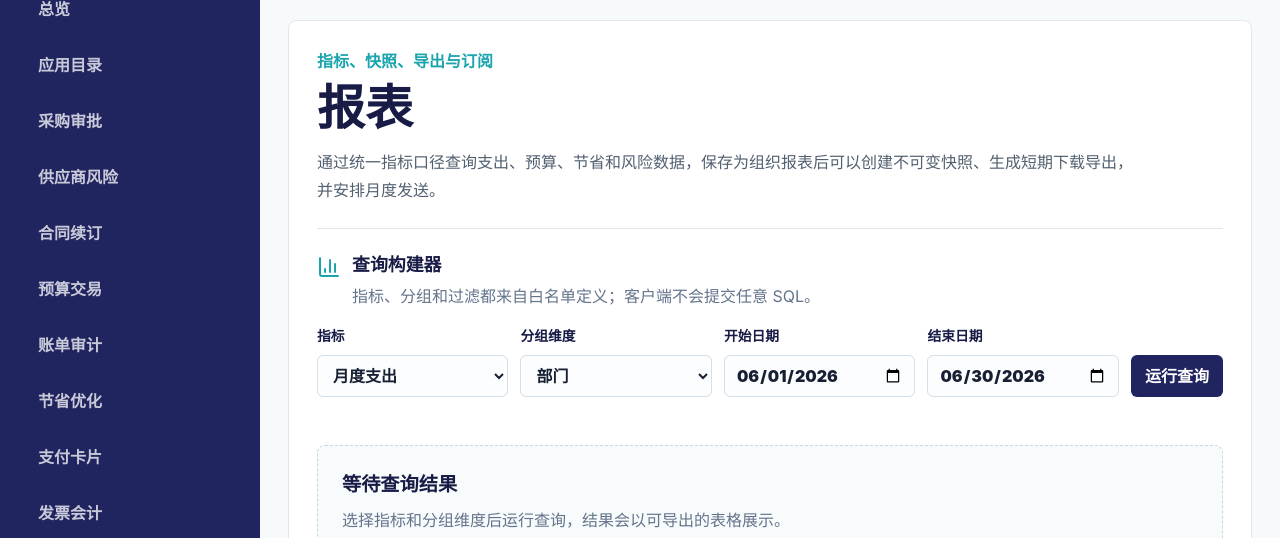
Test: builds, saves, snapshots, exports, and subscribes to a report
The image size is (1280, 538).
expect the heading "报表" is shown: met, box [317,78,413,137]
Select "月度支出" in the dropdown labelled "指标" at (413, 376), box [317,355,508,397]
Select "部门" in the dropdown labelled "分组维度" at (616, 376), box [520,355,712,397]
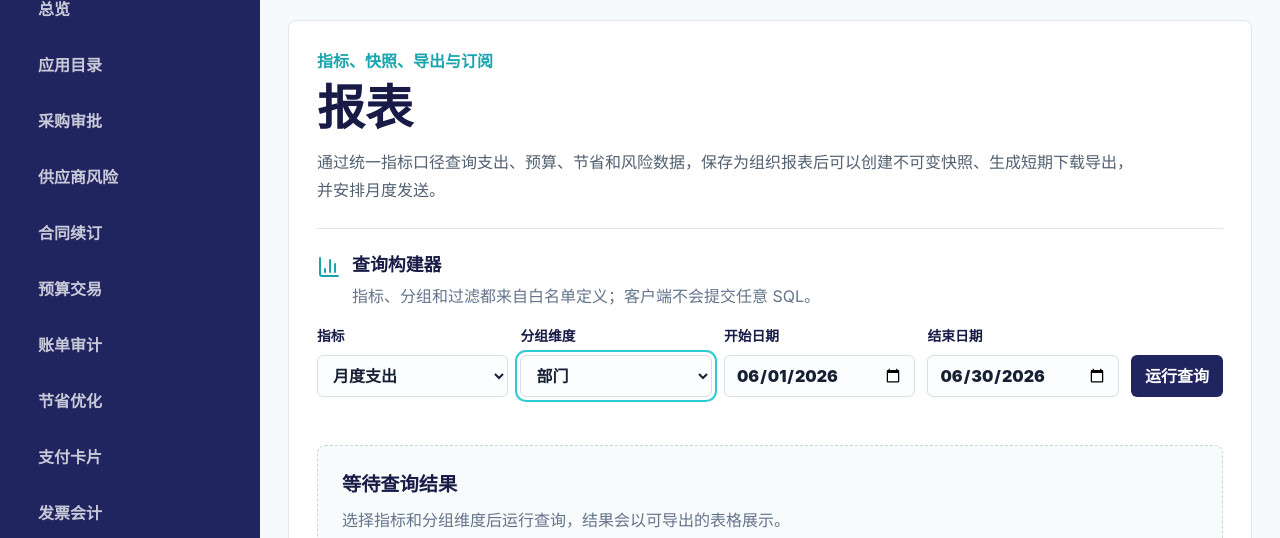
Click the button "运行查询" at (1177, 376), box [1131,355,1223,397]
(page scrolled)
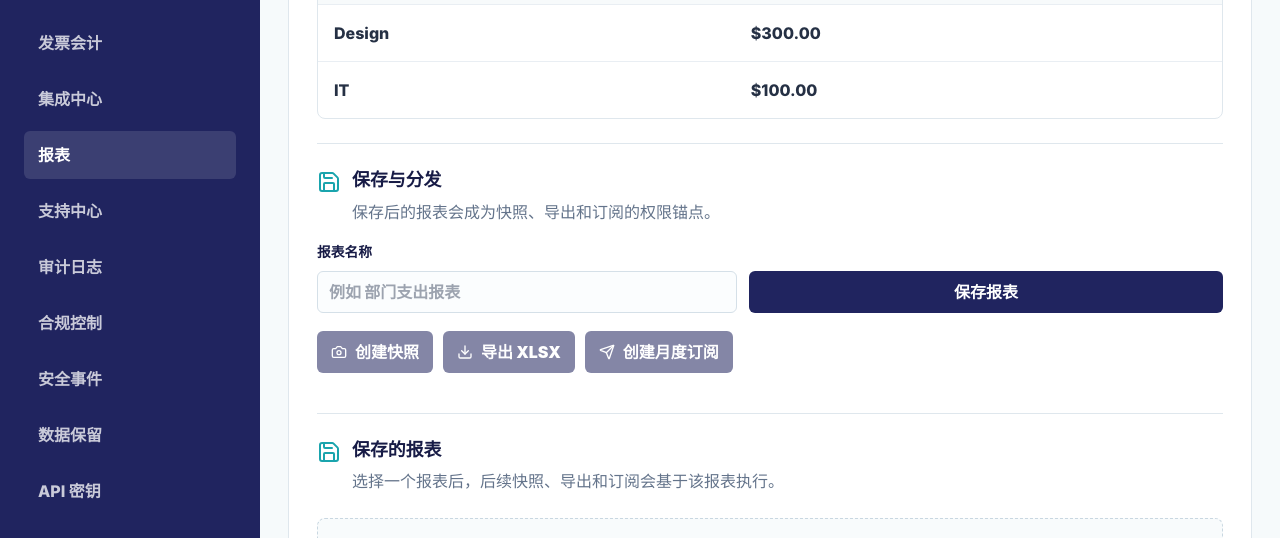
expect the text "Design" is shown: met, box [318,5,735,62]
expect the text "$300.00" is shown: met, box [735,5,1222,62]
expect the text "IT" is shown: met, box [318,62,735,118]
Type "部门支出报表" into the field labelled "报表名称" at (527, 292), box [317,271,737,313]
Click the button "保存报表" at (986, 292), box [749,271,1223,313]
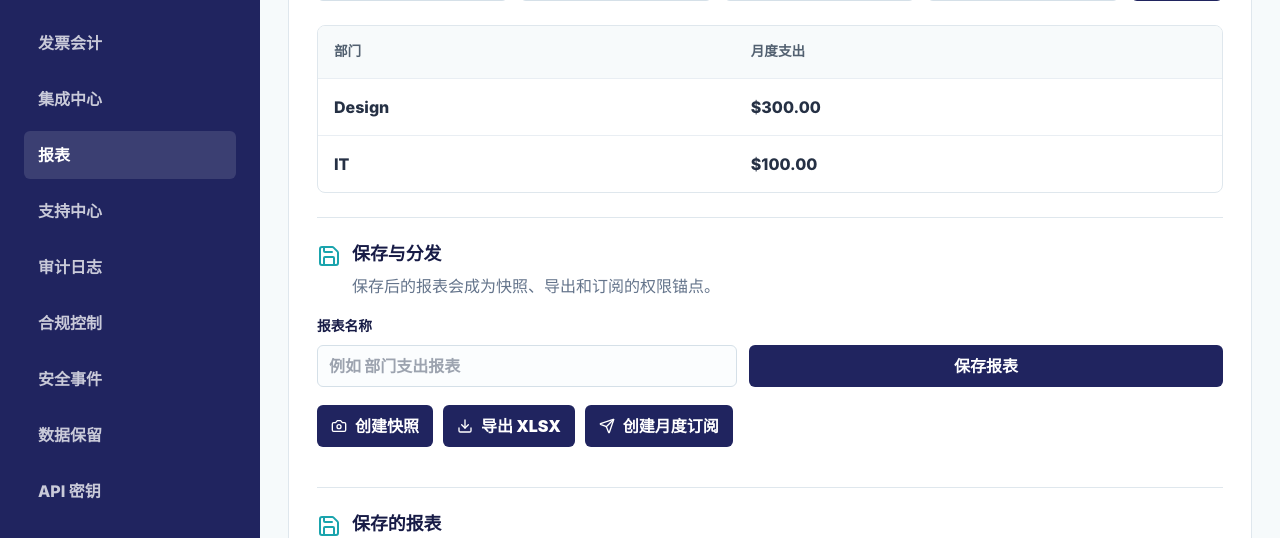
Click the button "创建快照" at (375, 426), box [317,405,433,447]
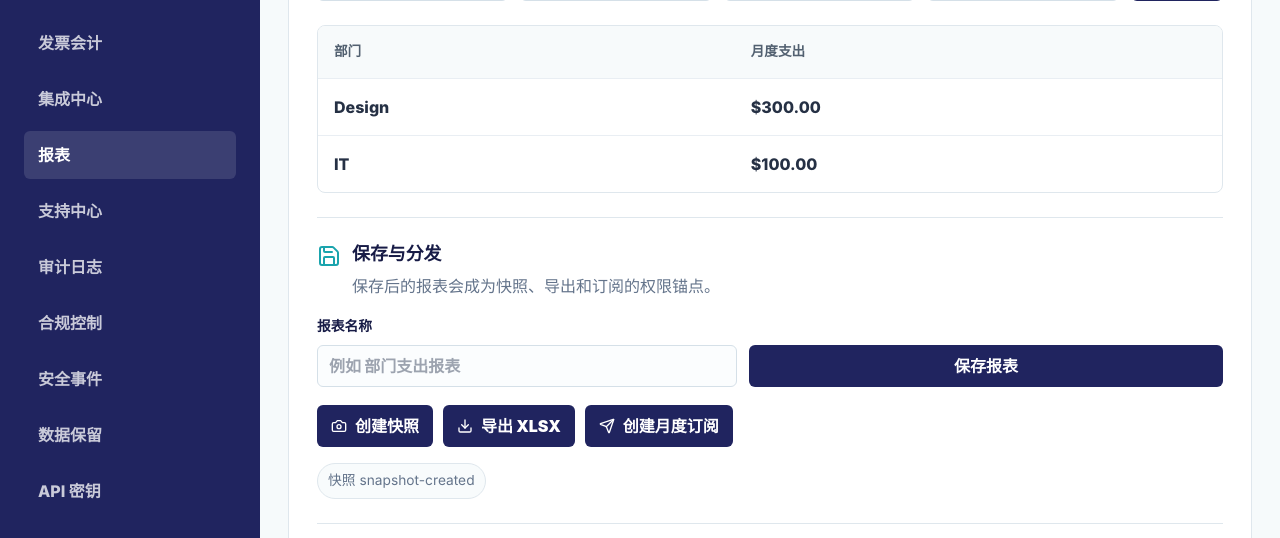
Click the button "导出 XLSX" at (509, 426), box [443,405,575,447]
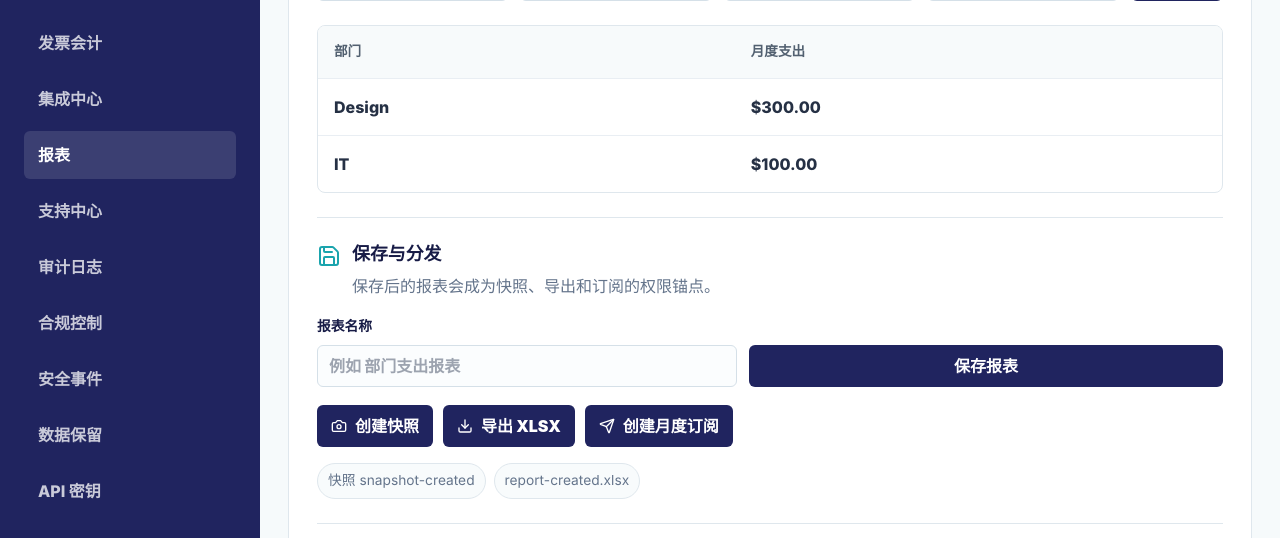
expect the text "report-created.xlsx" is shown: met, box [494,463,640,499]
Click the button "创建月度订阅" at (659, 426), box [585,405,733,447]
(page scrolled)
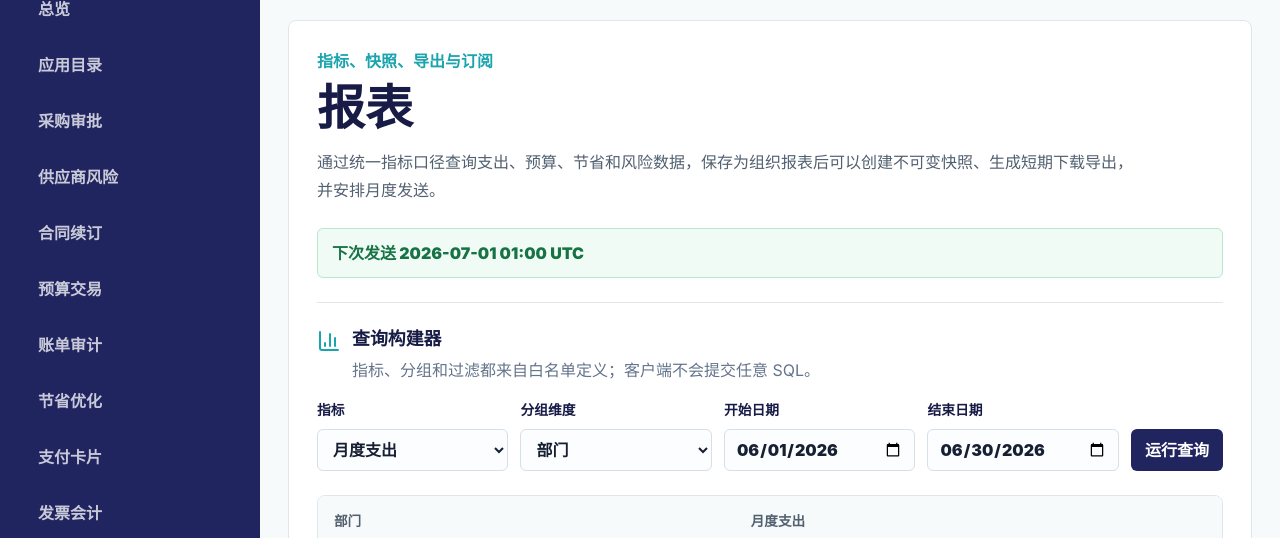
expect the text "下次发送 2026-07-01 01:00 UTC" is shown: met, box [317,228,1223,278]
